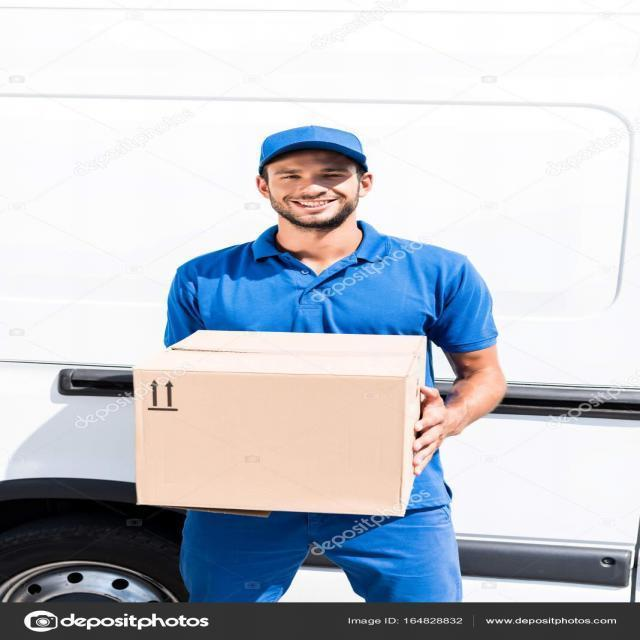box: (119, 319, 448, 524)
